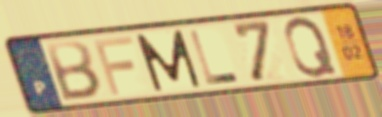7: (229, 20, 277, 85)
B: (43, 39, 104, 103)
F: (90, 34, 136, 97)
L: (186, 28, 243, 87)
M: (132, 28, 204, 94)
Q: (282, 15, 340, 80)
